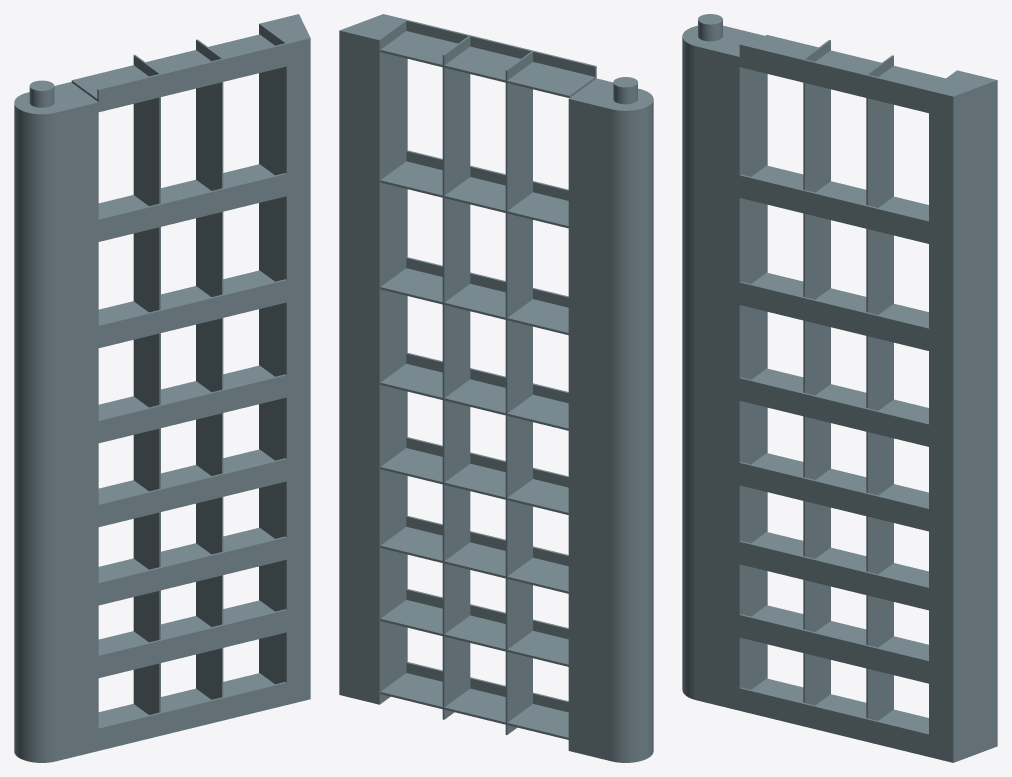
Rendered from step_04.glb.
The picture shows the model from 3 angles, left to right: view 1: azimuth 30°, elevation 25°; view 2: azimuth 150°, elevation 25°; view 3: azimuth 330°, elevation 25°; orthographic projection.
Parts seen in each view (by area): view 1: part__heel post, part__mitre post, part__stiffener 2, part__stiffener 1, part__girder 8, part__girder 1, part__girder 3, part__girder 5, part__girder 6, part__girder 7, part__girder 2, part__girder 4; view 2: part__heel post, part__mitre post, part__stiffener 2, part__stiffener 1, part__girder 8, part__girder 3, part__girder 4, part__girder 5, part__girder 1, part__girder 6, part__girder 2, part__girder 7; view 3: part__heel post, part__mitre post, part__stiffener 2, part__stiffener 1, part__girder 8, part__girder 5, part__girder 7, part__girder 2, part__girder 1, part__girder 3, part__girder 4, part__girder 6.
Boxes of the visible parts, x1,y1,x2,y2 form: part__heel post: [14, 80, 98, 762]; part__mitre post: [259, 14, 310, 704]; part__stiffener 2: [196, 39, 223, 699]; part__stiffener 1: [133, 55, 160, 714]; part__girder 8: [71, 34, 286, 111]; part__girder 1: [98, 673, 286, 750]; part__girder 3: [98, 527, 286, 605]; part__girder 5: [98, 365, 286, 443]; part__girder 6: [98, 270, 286, 347]; part__girder 7: [98, 164, 286, 241]; part__girder 2: [98, 600, 286, 677]; part__girder 4: [98, 449, 286, 526]; part__heel post: [568, 77, 653, 762]; part__mitre post: [339, 14, 407, 704]; part__stiffener 2: [442, 36, 470, 719]; part__stiffener 1: [505, 51, 532, 734]; part__girder 8: [380, 20, 596, 98]; part__girder 3: [380, 515, 568, 593]; part__girder 4: [380, 437, 568, 514]; part__girder 5: [380, 352, 568, 430]; part__girder 1: [380, 662, 568, 739]; part__girder 6: [380, 257, 568, 335]; part__girder 2: [380, 589, 568, 666]; part__girder 7: [380, 150, 568, 228]; part__heel post: [682, 14, 767, 710]; part__mitre post: [929, 70, 997, 762]; part__stiffener 2: [866, 55, 893, 720]; part__stiffener 1: [803, 40, 830, 705]; part__girder 8: [739, 35, 945, 113]; part__girder 5: [739, 368, 928, 446]; part__girder 7: [739, 165, 928, 243]; part__girder 2: [739, 605, 928, 683]; part__girder 1: [739, 678, 928, 756]; part__girder 3: [739, 532, 928, 610]; part__girder 4: [739, 453, 928, 531]; part__girder 6: [739, 272, 928, 350].
Size of the model in its own units: 2760 by 5950 by 450.
